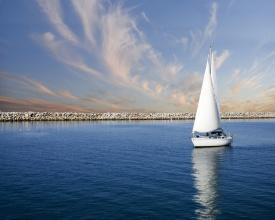fanchuan: (189, 44, 230, 152)
